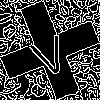V: (25, 25, 73, 80)
